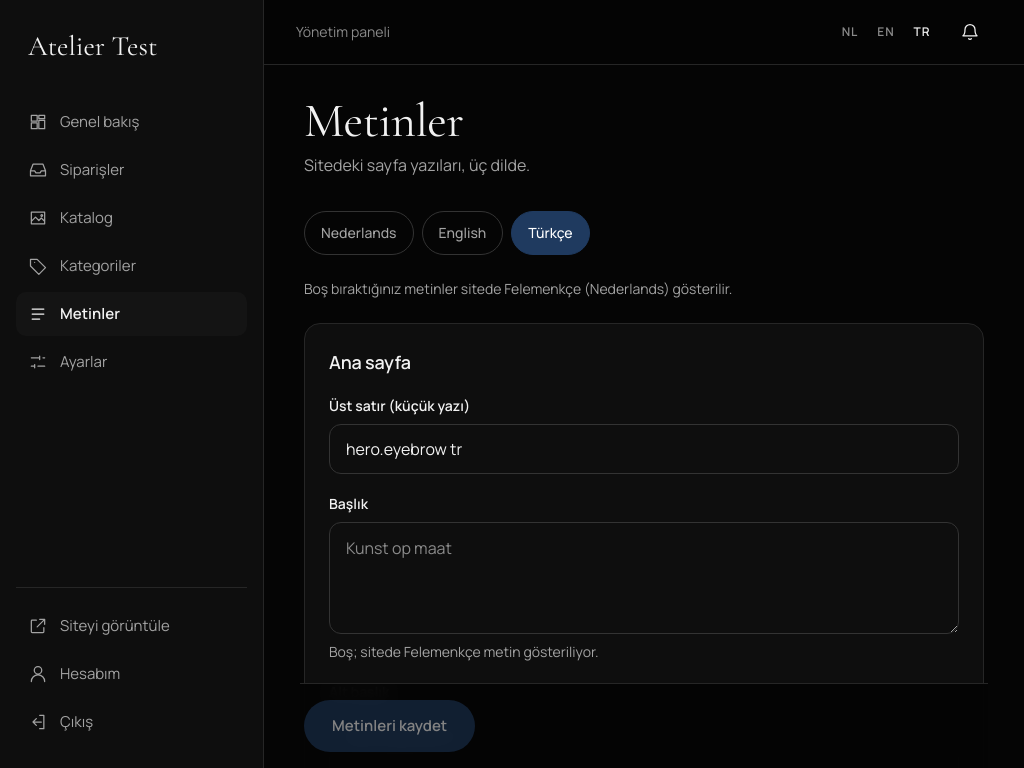
page texts › saves only the changed texts, across languages
In the text box labelled "Başlık": (644, 578) [329,522,959,634], type "Size özel sanat"
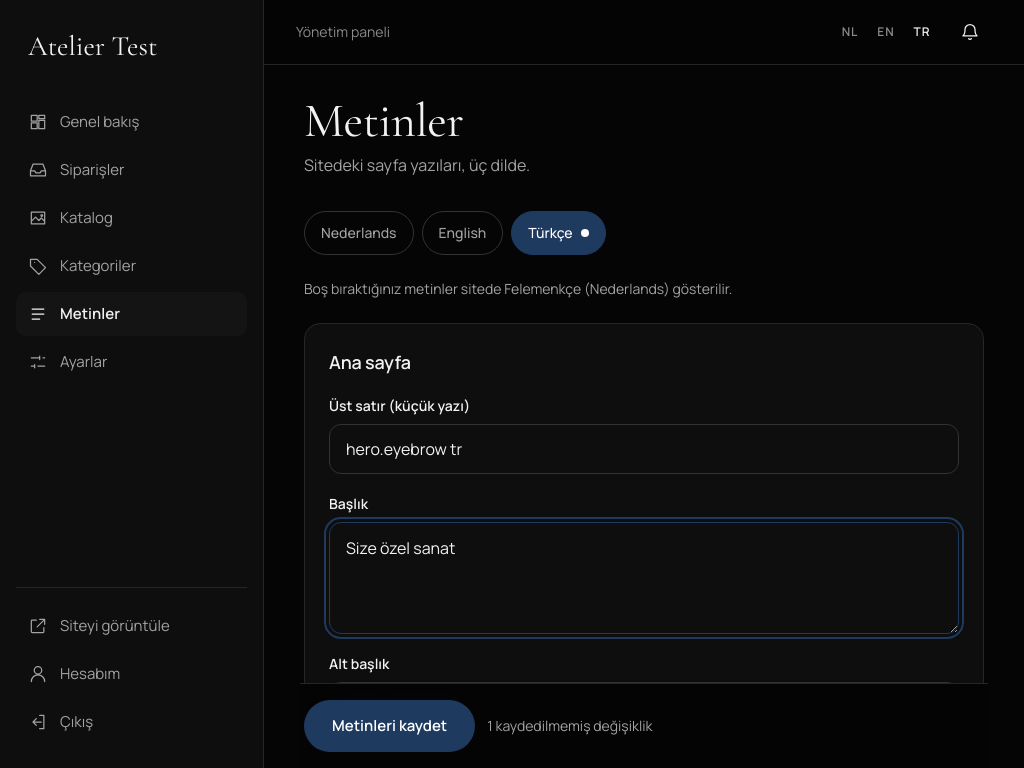
Click the button "English": (462, 233) [422,211,503,255]
(page scrolled)
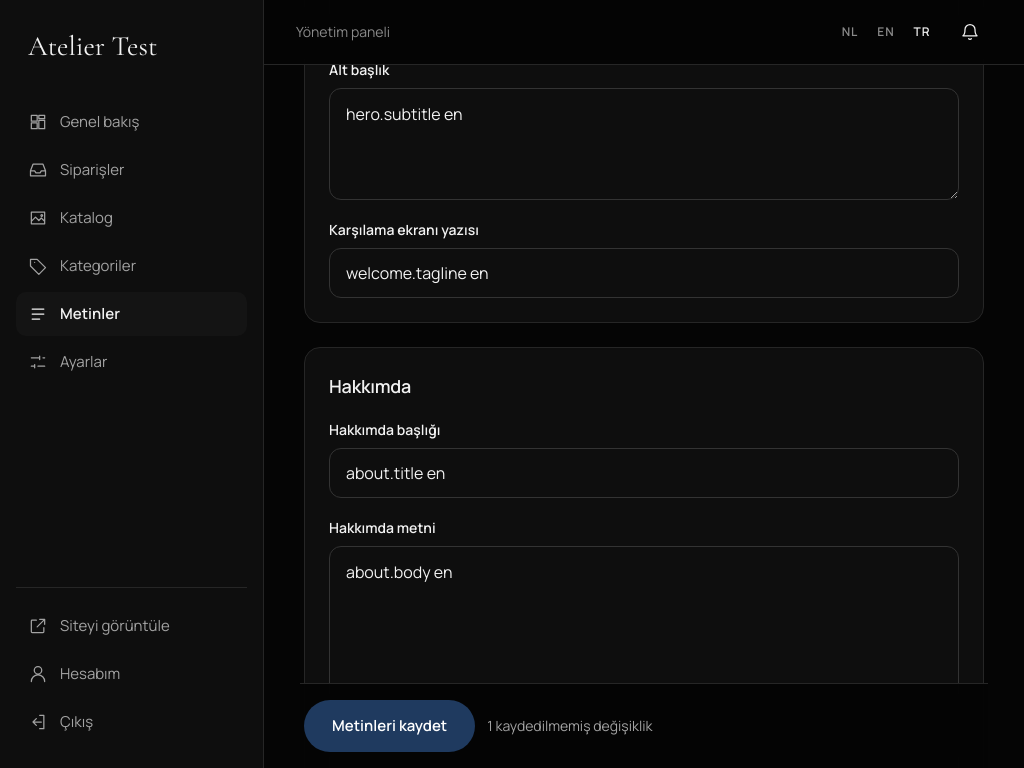
Expected: the field labelled "Hakkımda başlığı" holds "about.title en"
Replace the text in the field labelled "Hakkımda başlığı" with "About me": (644, 473) [329,448,959,498]
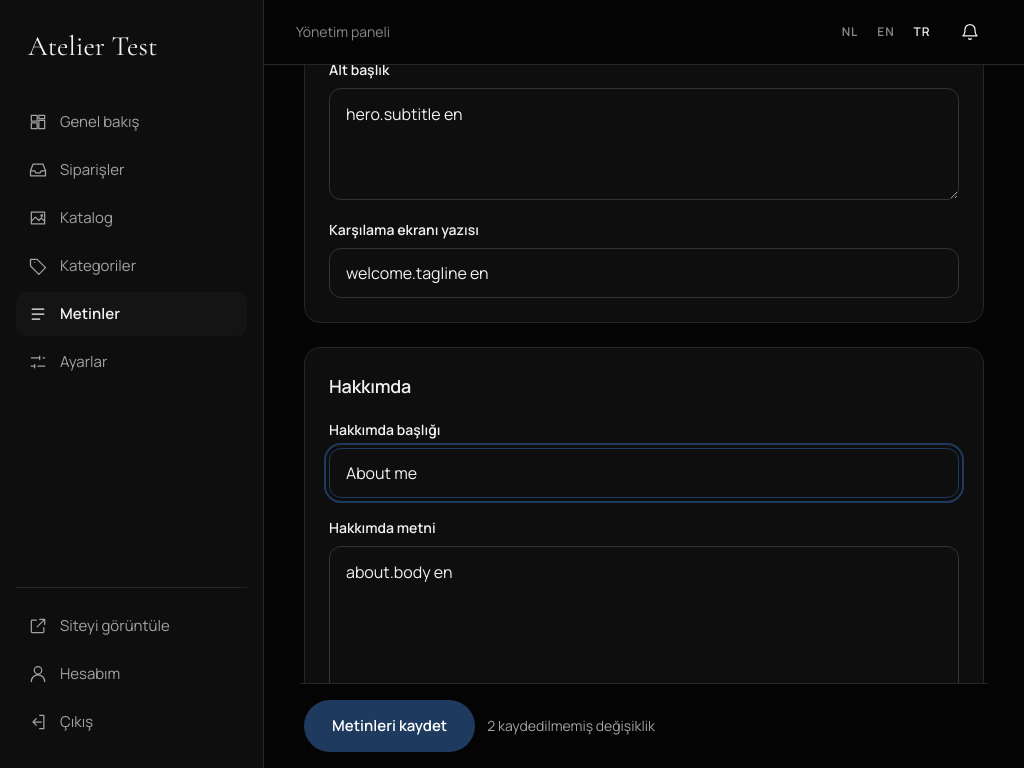
Expected: the text "2 kaydedilmemiş değişiklik" is shown, [487,716,655,736]
Click the button "Metinleri kaydet": (390, 726) [304,700,475,752]
(page scrolled)
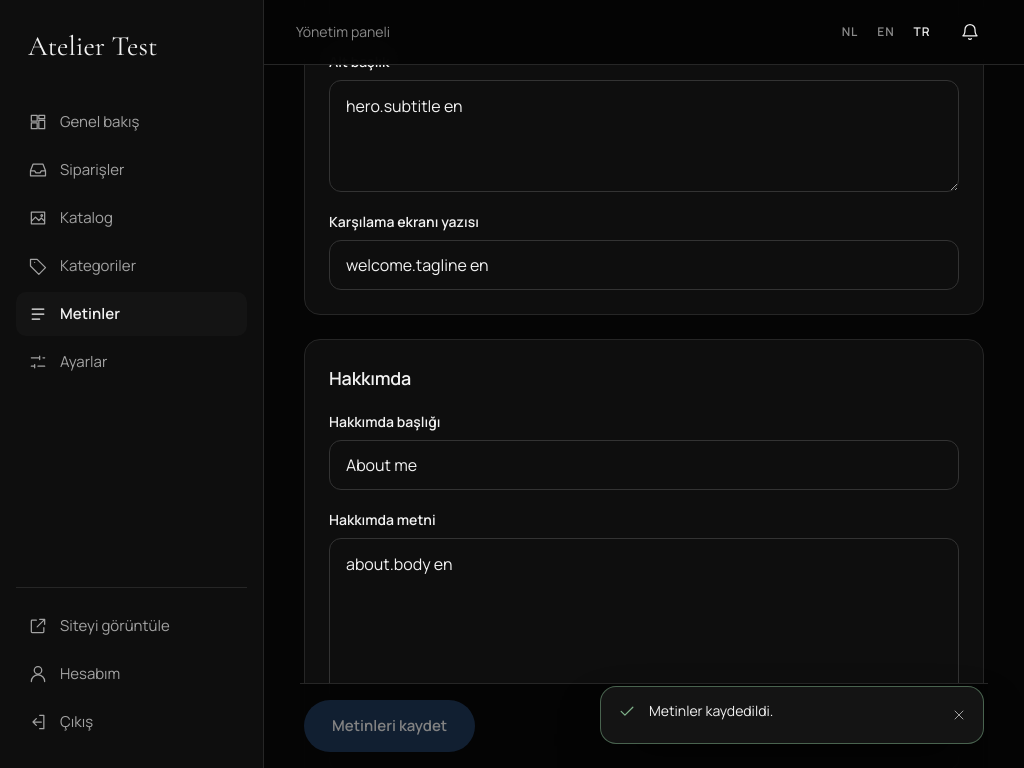
Expected: the text "Metinler kaydedildi." is shown, [649,701,773,720]
Expected: the button "Metinleri kaydet" is disabled, [304,700,475,752]
